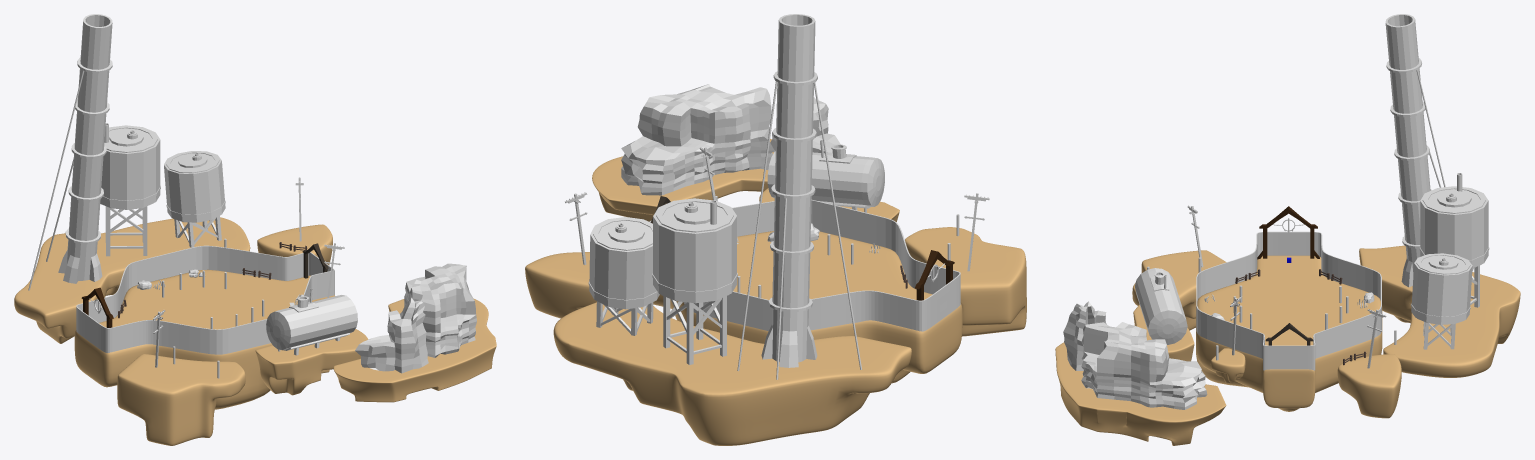
File: Nivel1 Sala4.fbx
3 renders of one model, left to right at view 1: azimuth 30°, elevation 25°; view 2: azimuth 150°, elevation 25°; view 3: azimuth 270°, elevation 25°, orthographic. The views are drawn at different scales.
Parts seen in each view (by area): view 1: Base 1-4, Limite.003, Tuberia 2.001, Cube.033, Cube.037, Cube.034, Almacen 2, Almacen 1, Roca.022, AL 3 Tanque Ferrocarril.001, Cube.036, Roca.027 (+1 smaller); view 2: Cube.033, Tuberia 2.001, Roca.022, Base 1-4, Limite.003, Almacen 2, Cube.037, Almacen 1, Cube.034, AL 3 Tanque Ferrocarril.001, Cube.035, Roca.027 (+2 smaller); view 3: Base 1-4, Cube.033, Limite.003, Roca.022, Tuberia 2.001, Cube.034, Almacen 2, Almacen 1, Cube.035, AL 3 Tanque Ferrocarril.001, Cube.037, Roca.027 (+3 smaller).
Boxes of the visible parts, x1,y1,x2,y2 form: Base 1-4: [74, 269, 334, 409]; Limite.003: [76, 245, 334, 354]; Tuberia 2.001: [28, 14, 112, 290]; Cube.033: [14, 217, 250, 343]; Cube.037: [117, 354, 245, 445]; Cube.034: [333, 298, 496, 402]; Almacen 2: [100, 123, 160, 256]; Almacen 1: [164, 151, 225, 247]; Roca.022: [404, 263, 476, 357]; AL 3 Tanque Ferrocarril.001: [266, 288, 357, 355]; Cube.036: [255, 329, 368, 395]; Roca.027: [355, 297, 428, 373]; Cube.033: [553, 302, 911, 445]; Tuberia 2.001: [737, 14, 861, 379]; Roca.022: [621, 84, 774, 195]; Base 1-4: [653, 231, 962, 383]; Limite.003: [649, 199, 960, 331]; Almacen 2: [652, 198, 737, 364]; Cube.037: [905, 227, 1026, 336]; Almacen 1: [588, 217, 659, 335]; Cube.034: [592, 139, 773, 221]; AL 3 Tanque Ferrocarril.001: [767, 140, 884, 210]; Cube.035: [525, 252, 596, 318]; Roca.027: [770, 97, 840, 153]; Base 1-4: [1196, 255, 1382, 411]; Cube.033: [1359, 245, 1520, 377]; Limite.003: [1196, 231, 1381, 370]; Roca.022: [1081, 322, 1207, 409]; Tuberia 2.001: [1385, 14, 1445, 287]; Cube.034: [1055, 342, 1226, 445]; Almacen 2: [1419, 173, 1489, 307]; Almacen 1: [1411, 253, 1472, 349]; Cube.035: [1337, 354, 1401, 418]; AL 3 Tanque Ferrocarril.001: [1135, 268, 1187, 344]; Cube.037: [1132, 250, 1226, 330]; Roca.027: [1063, 301, 1106, 370].
Size of the model in its own units: 19428 by 17398 by 22155.
